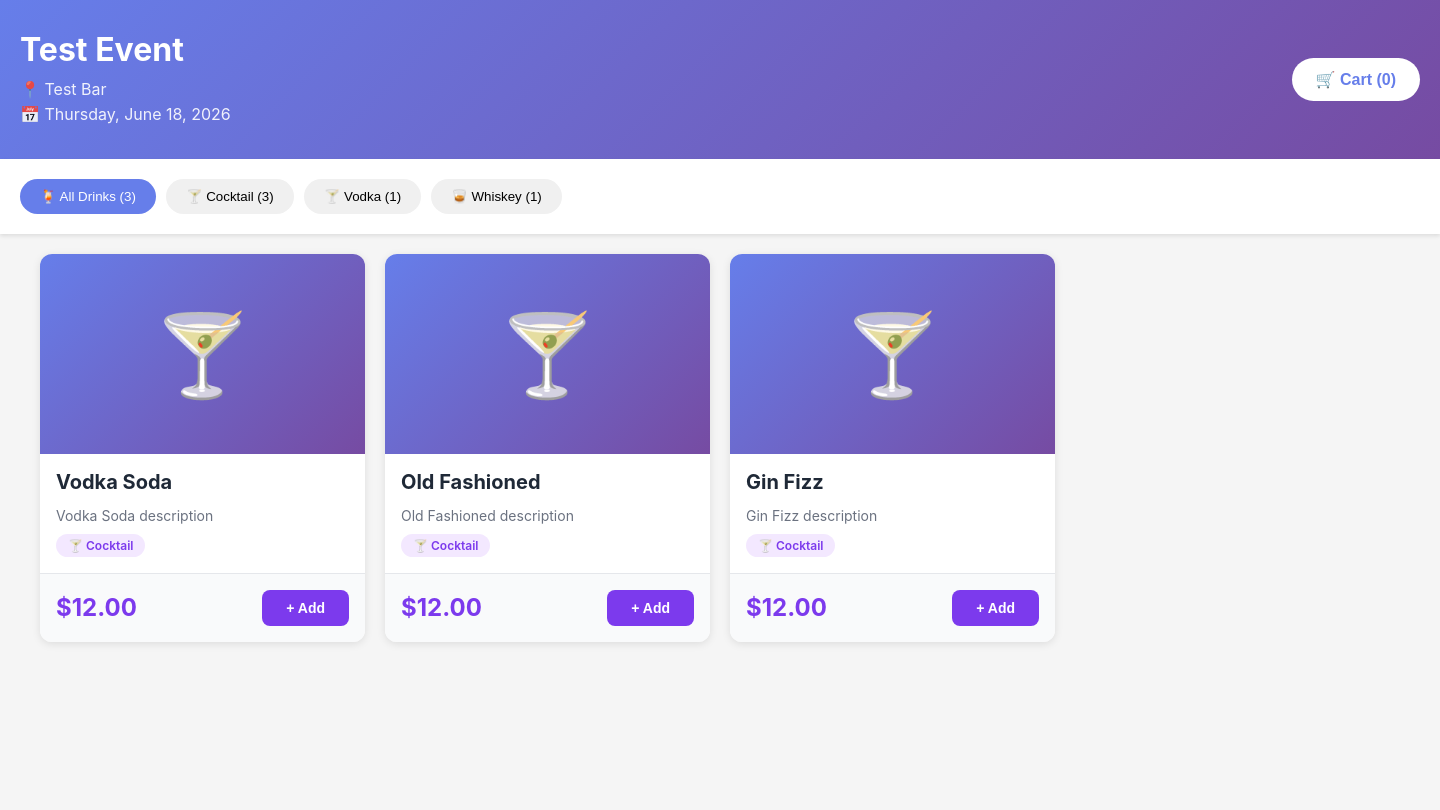
it: DrinkMenu liquor filters › shows only liquor filters present on the event menu and filters matching drinks
Expected: the button "🥃 Whiskey (1)" is shown, [431,179,562,214]
Click the button "🍸 Vodka (1)" at (362, 196), box [304,179,421,214]
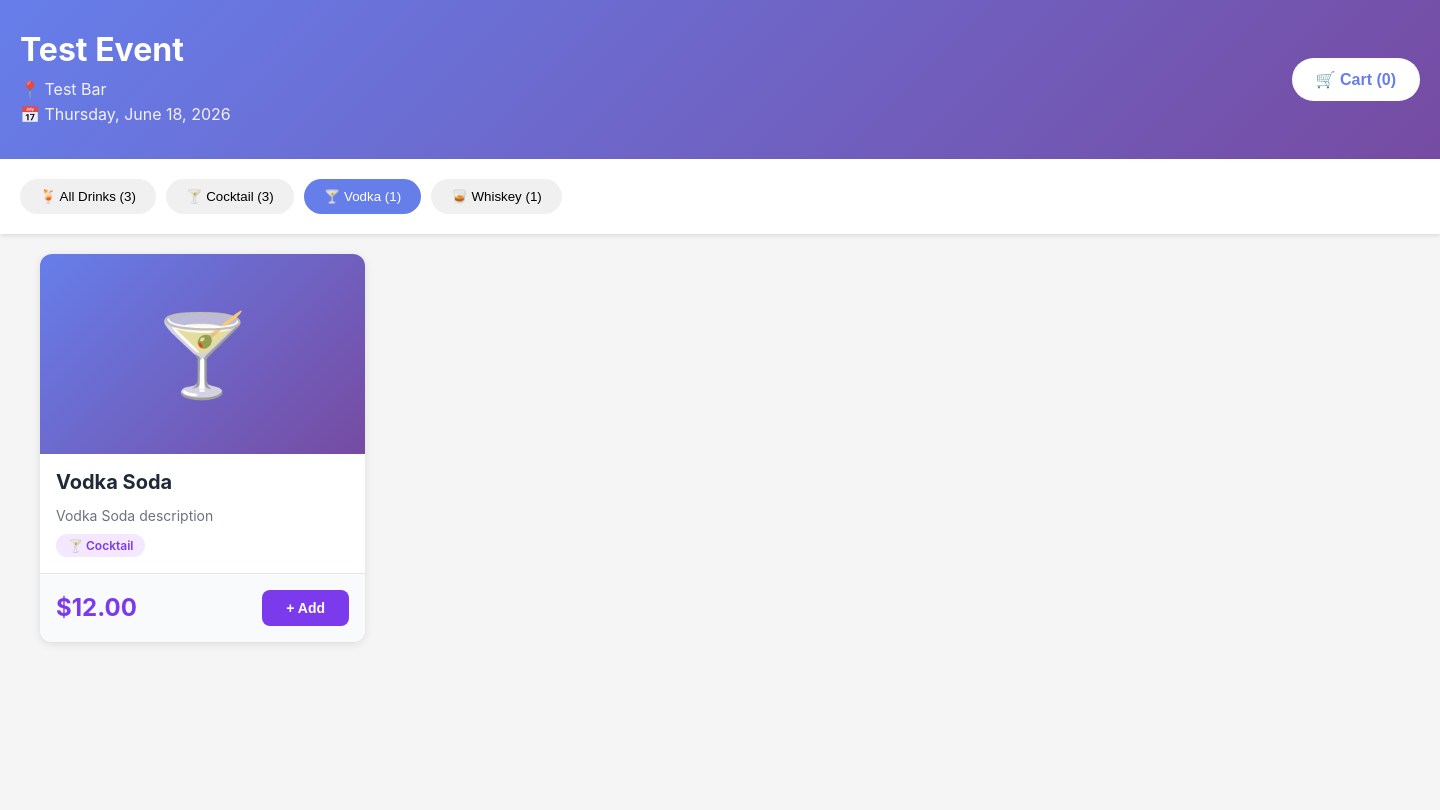
Expected: the heading "Vodka Soda" is shown, [56,470,172,494]
Result: the heading "Old Fashioned" is gone
Result: the heading "Gin Fizz" is gone
